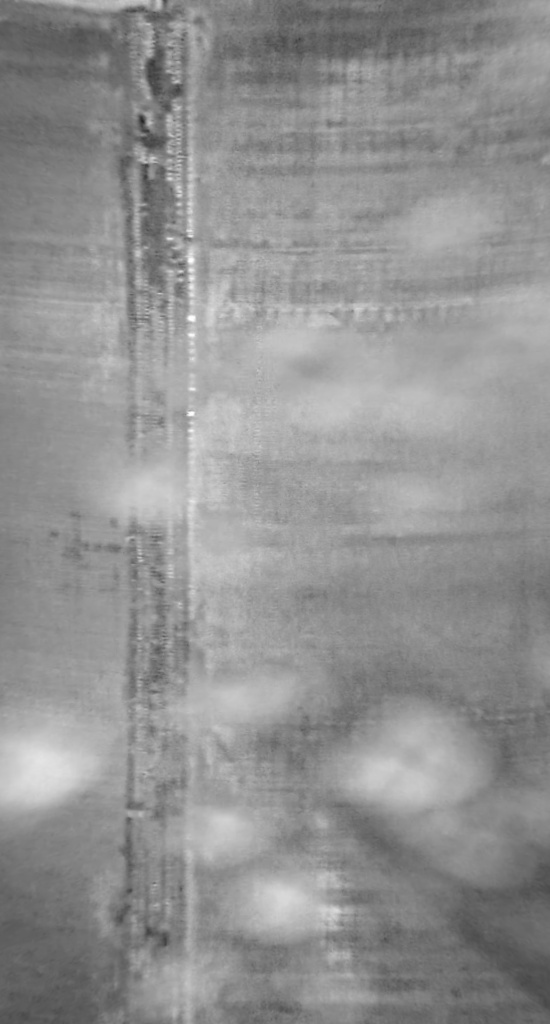splice: (108, 1, 205, 1023)
